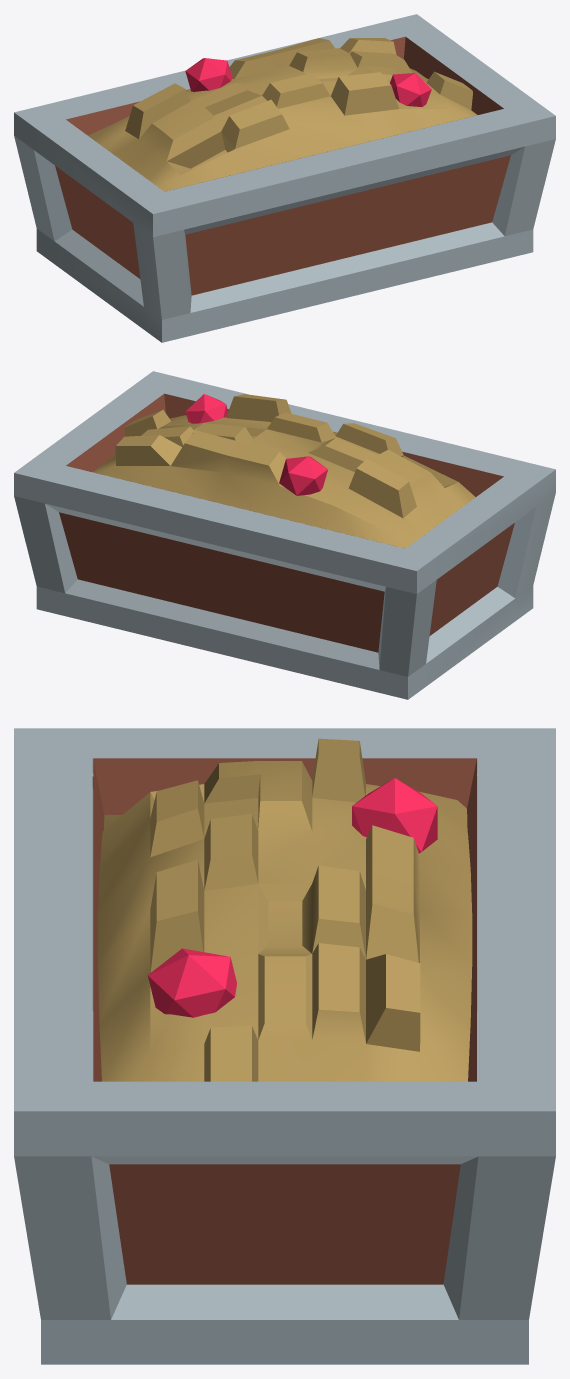
File: chest.gltf
3 renders of one model, top to bottom at view 1: azimuth 30°, elevation 25°; view 2: azimuth 150°, elevation 25°; view 3: azimuth 270°, elevation 25°, orthographic. The views are drawn at different scales.
Parts seen in each view (by area): view 1: chest_uncommon; view 2: chest_uncommon; view 3: chest_uncommon.
Part boxes in pixels (x1,y1,x2,y2): chest_uncommon: (14,14,555,342); chest_uncommon: (14,371,555,699); chest_uncommon: (14,728,555,1364).
Bounding box in the file's own units: 1.84 × 0.8096 × 1.1.
